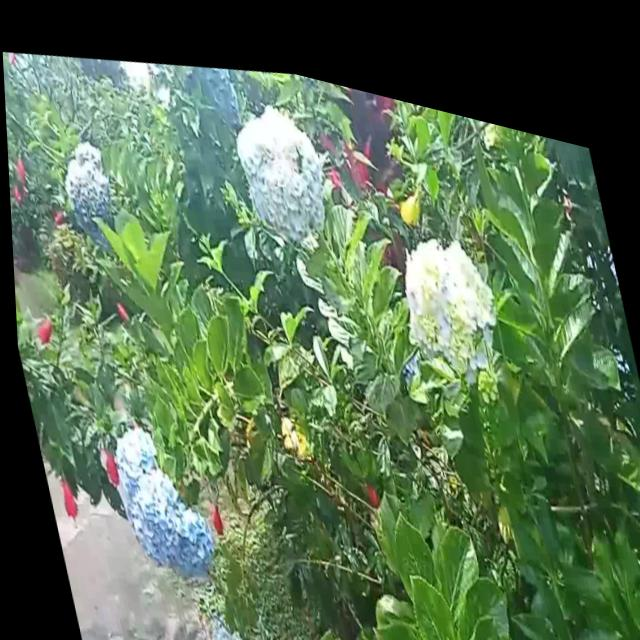Flower: (384, 195, 512, 371), (222, 71, 339, 252), (102, 406, 218, 588), (47, 118, 128, 257), (198, 604, 253, 640), (51, 462, 75, 522), (29, 308, 56, 346), (97, 437, 115, 483), (205, 491, 220, 529)
